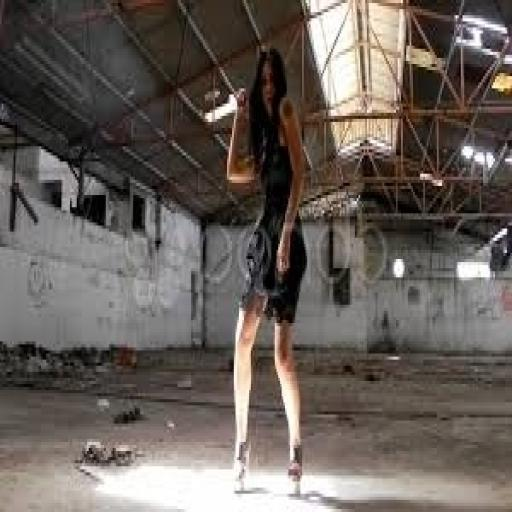dancing: (224, 42, 312, 500)
